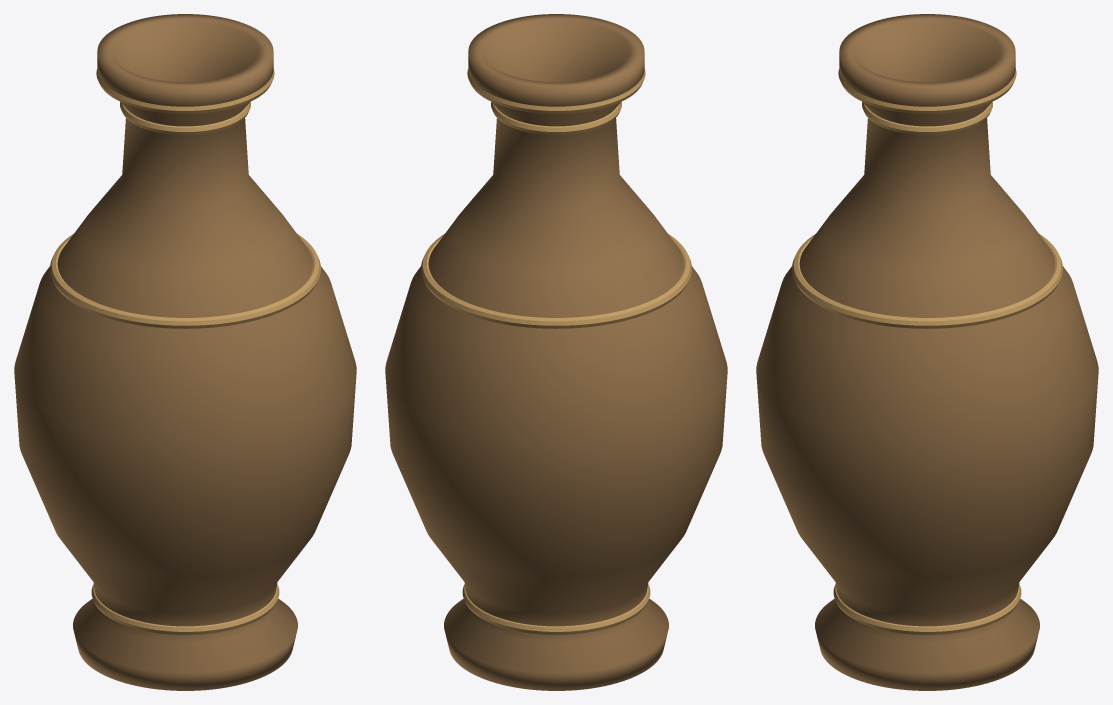
Rendered from bronze-vessel.glb.
3 views of the same model, side by side, from view 1: azimuth 30°, elevation 25°; view 2: azimuth 150°, elevation 25°; view 3: azimuth 270°, elevation 25° (orthographic).
Visible parts, largest first — view 1: Demo bronze vessel, Torus.001, Torus, Torus.003, Torus.002; view 2: Demo bronze vessel, Torus.001, Torus, Torus.003, Torus.002; view 3: Demo bronze vessel, Torus.001, Torus, Torus.003, Torus.002.
Boxes of the visible parts, bbox=[...] form: Demo bronze vessel: bbox=[14, 14, 356, 690]; Torus.001: bbox=[50, 234, 320, 328]; Torus: bbox=[91, 584, 279, 634]; Torus.003: bbox=[96, 69, 274, 113]; Torus.002: bbox=[120, 102, 250, 135]; Demo bronze vessel: bbox=[385, 14, 727, 690]; Torus.001: bbox=[421, 234, 691, 328]; Torus: bbox=[462, 584, 650, 634]; Torus.003: bbox=[467, 69, 645, 113]; Torus.002: bbox=[491, 102, 621, 135]; Demo bronze vessel: bbox=[756, 14, 1098, 690]; Torus.001: bbox=[792, 234, 1062, 328]; Torus: bbox=[833, 584, 1021, 634]; Torus.003: bbox=[838, 69, 1016, 113]; Torus.002: bbox=[862, 102, 992, 135].
Size of the model in its own units: 0.7 by 1.34 by 0.7.
